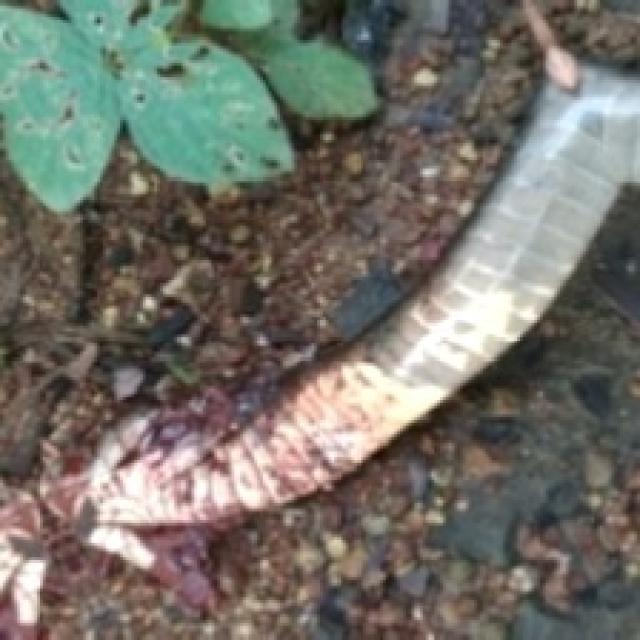king cobra: (0, 0, 637, 637), (40, 186, 637, 637), (49, 6, 537, 471)
